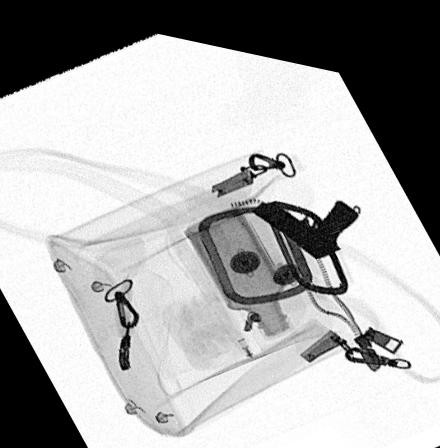Gun: (252, 185, 363, 248)
